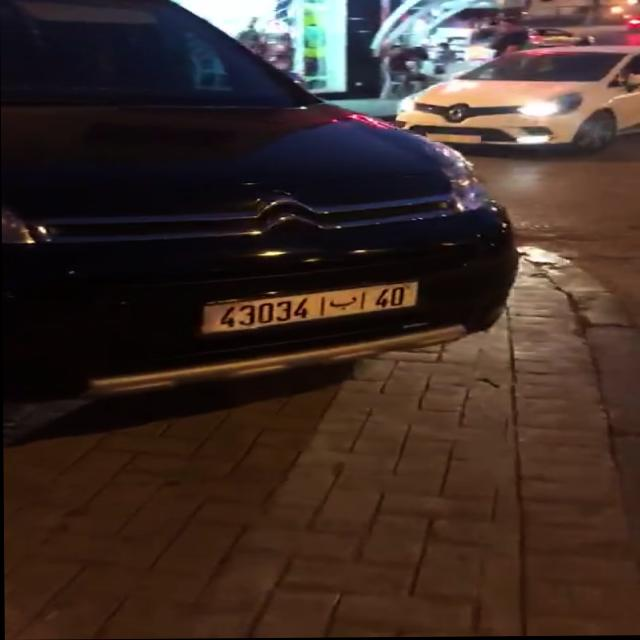License-Plate: (201, 283, 419, 334)
